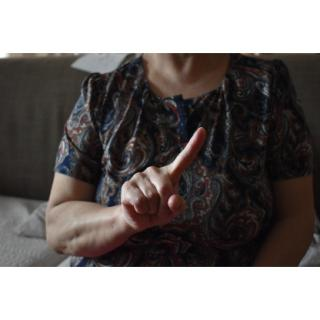BAA: (117, 123, 209, 232)
